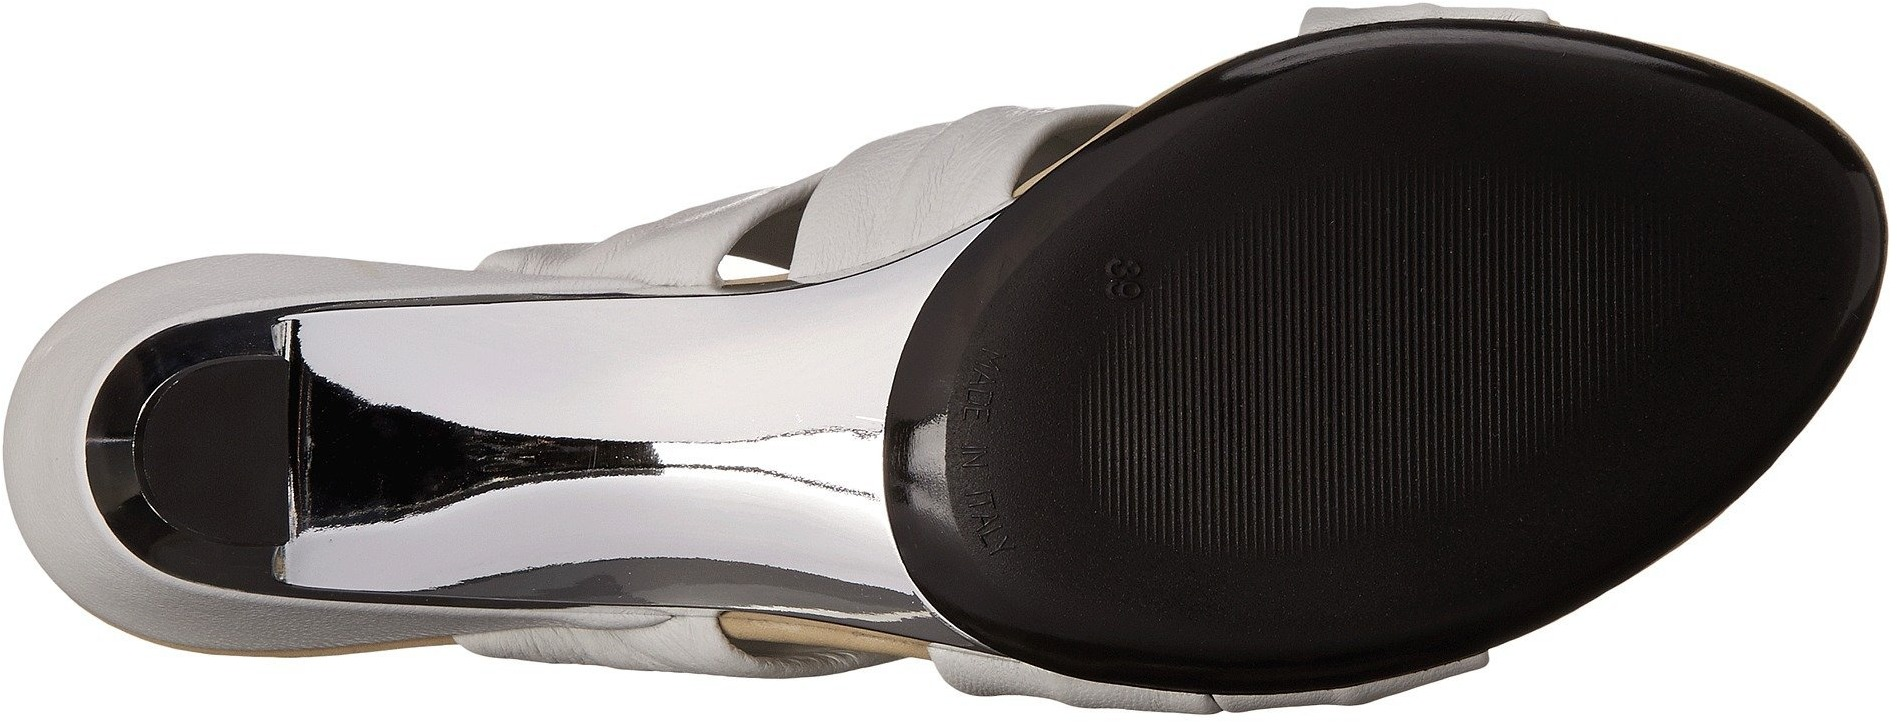other: (1281, 333, 1543, 590), (1559, 210, 1804, 455), (1596, 41, 1769, 187), (190, 447, 334, 582), (1550, 456, 1670, 585), (1447, 207, 1557, 324)
text: (1099, 564, 1180, 642), (1105, 394, 1180, 468), (1268, 279, 1325, 346), (1097, 253, 1154, 307), (1099, 502, 1152, 558)
